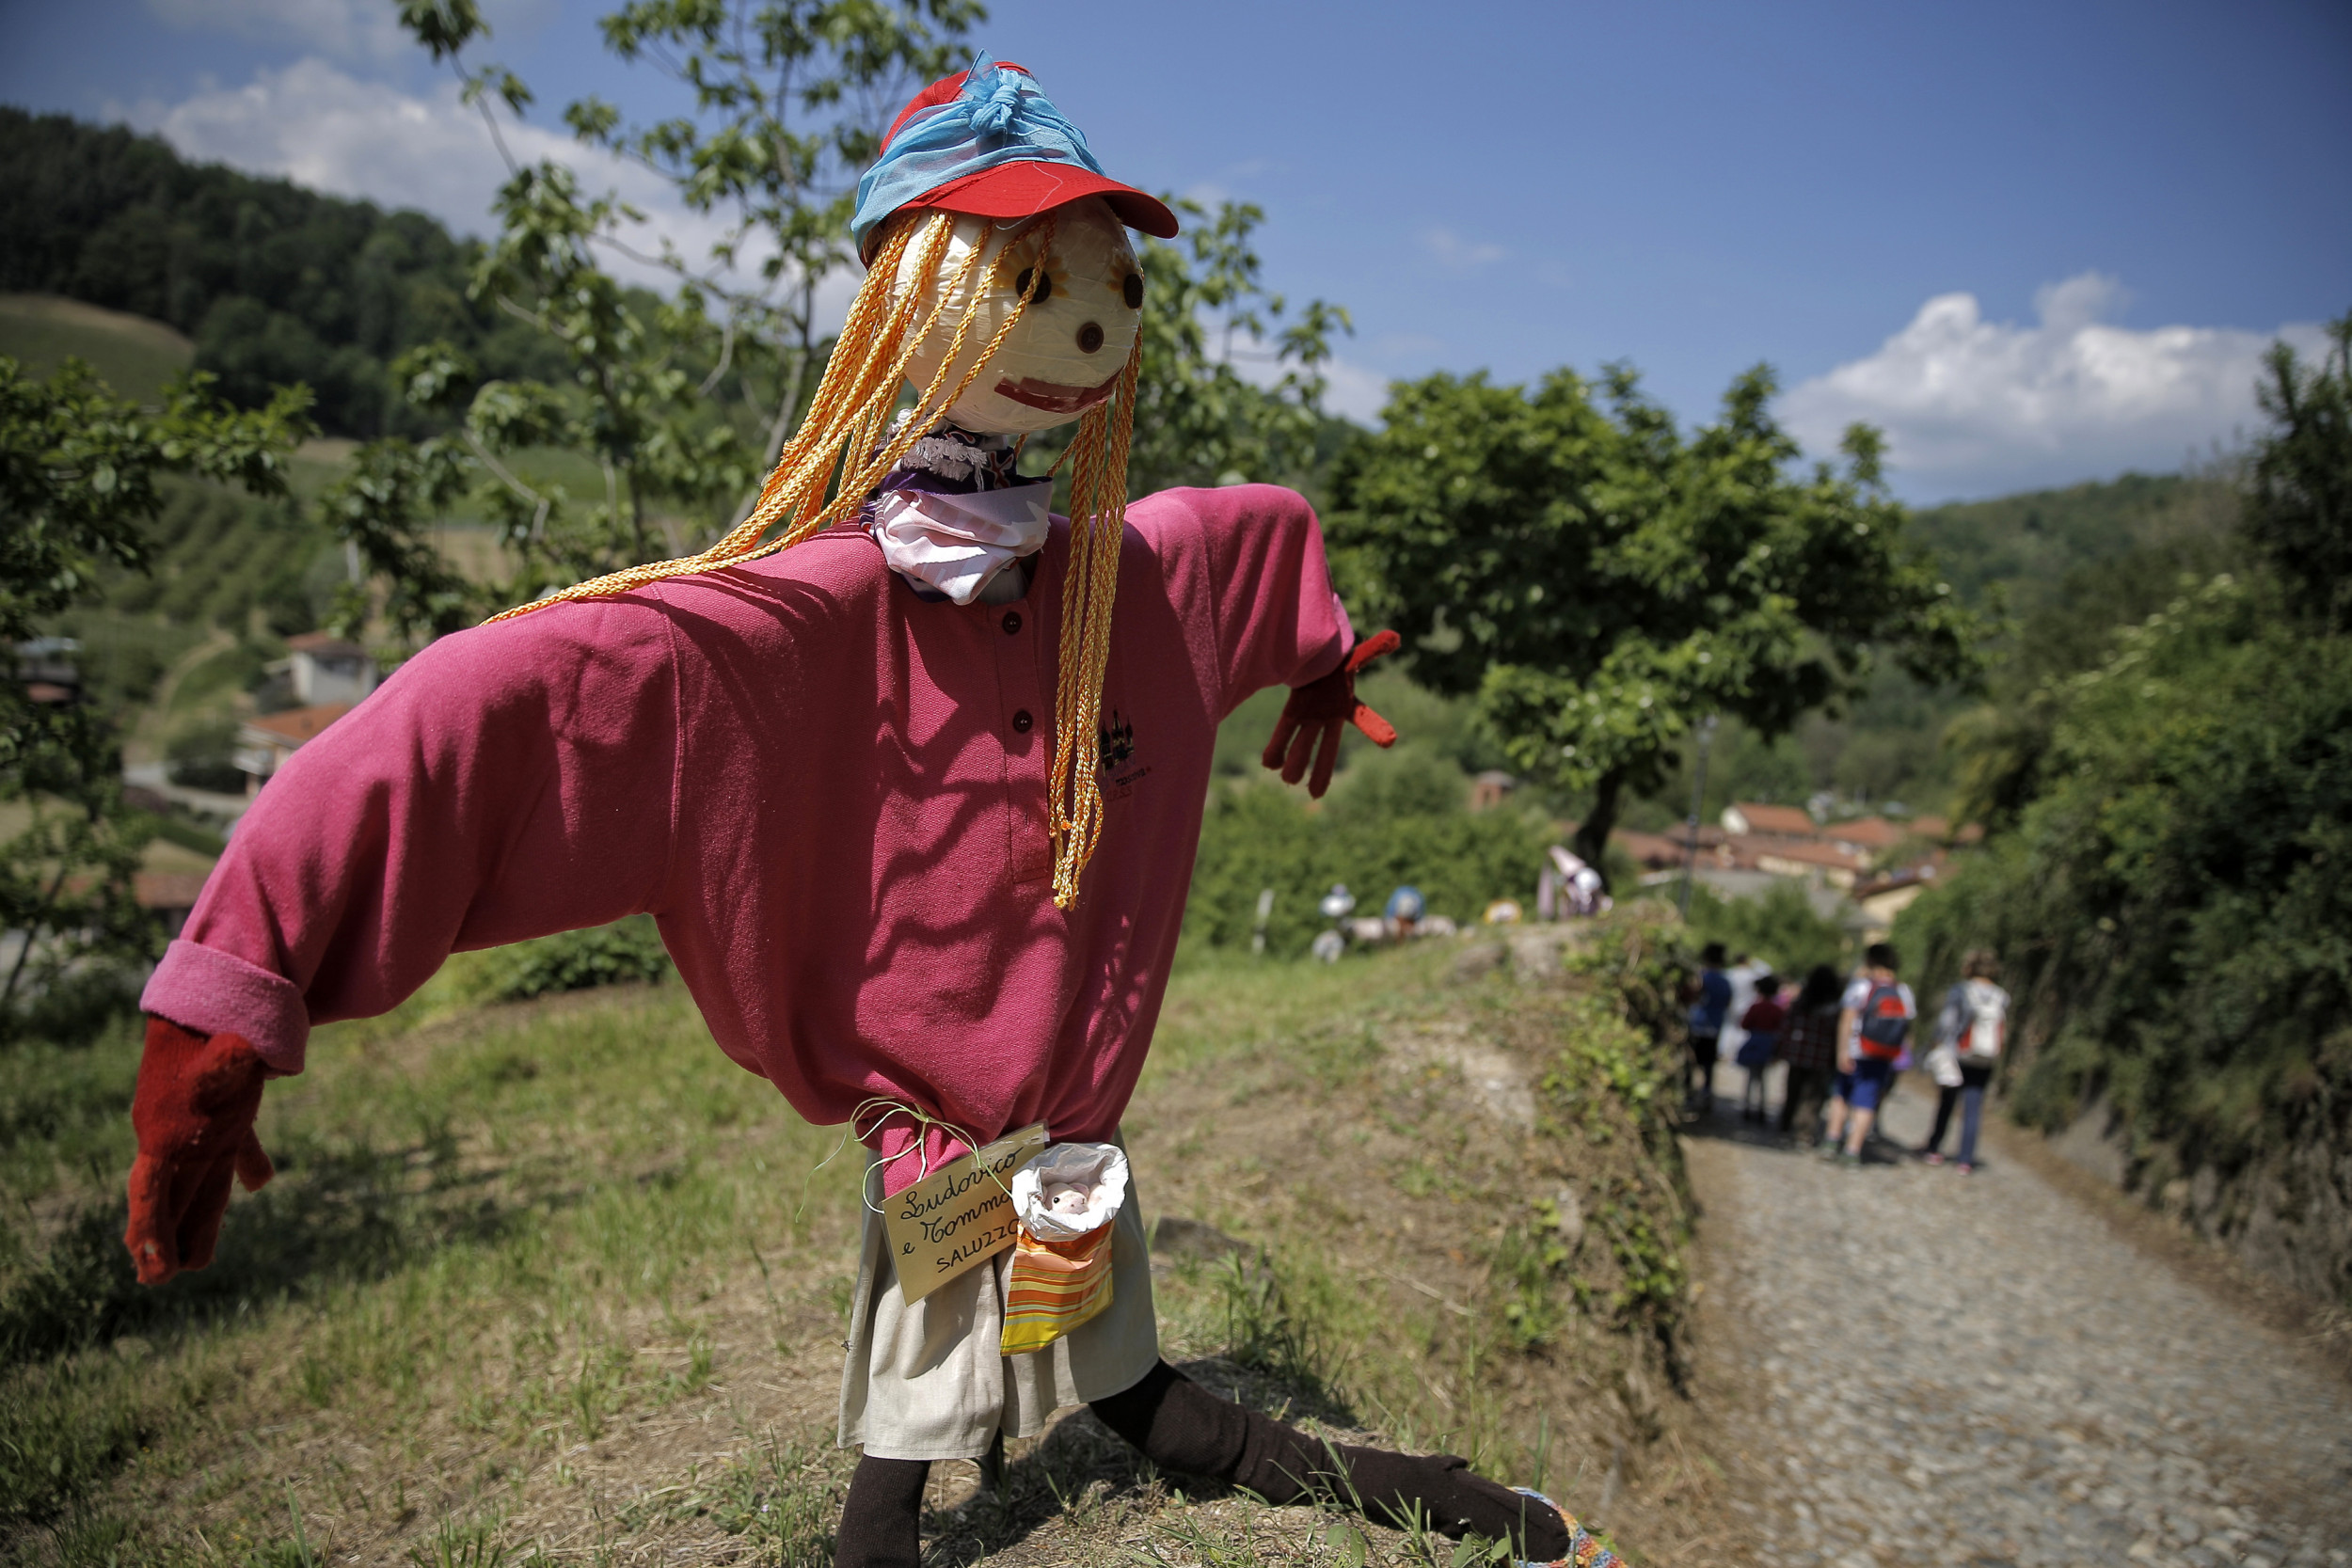person: (1914, 948, 2012, 1182), (1820, 936, 1914, 1176)
person-like: (116, 52, 1410, 1546)
